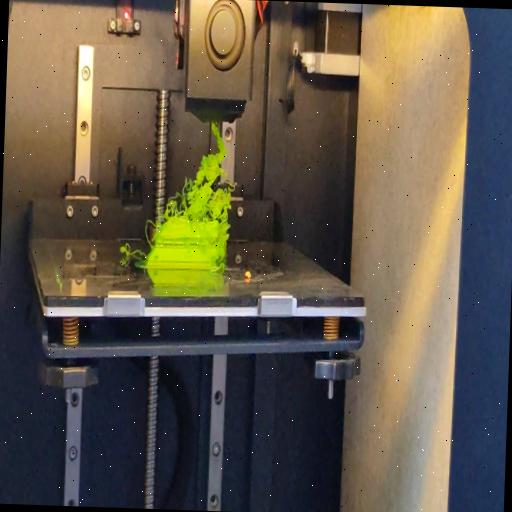spaghetti: (162, 119, 234, 221), (216, 220, 232, 272), (116, 240, 145, 256), (144, 219, 156, 247)
